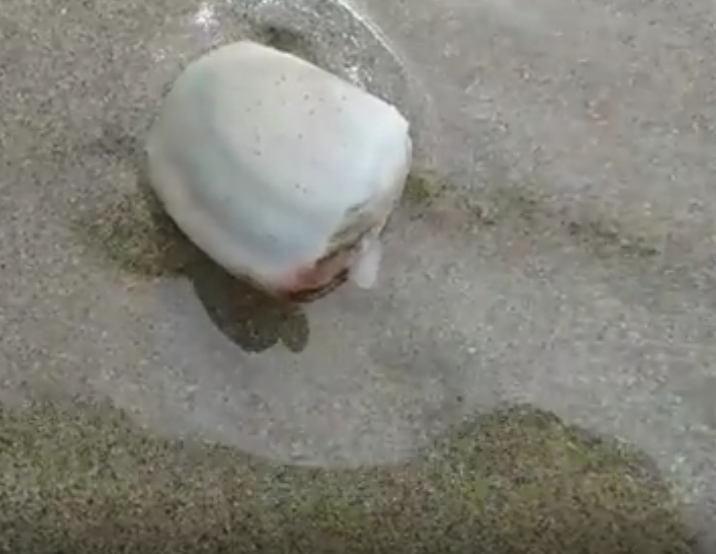tuatua: (136, 31, 410, 315)
